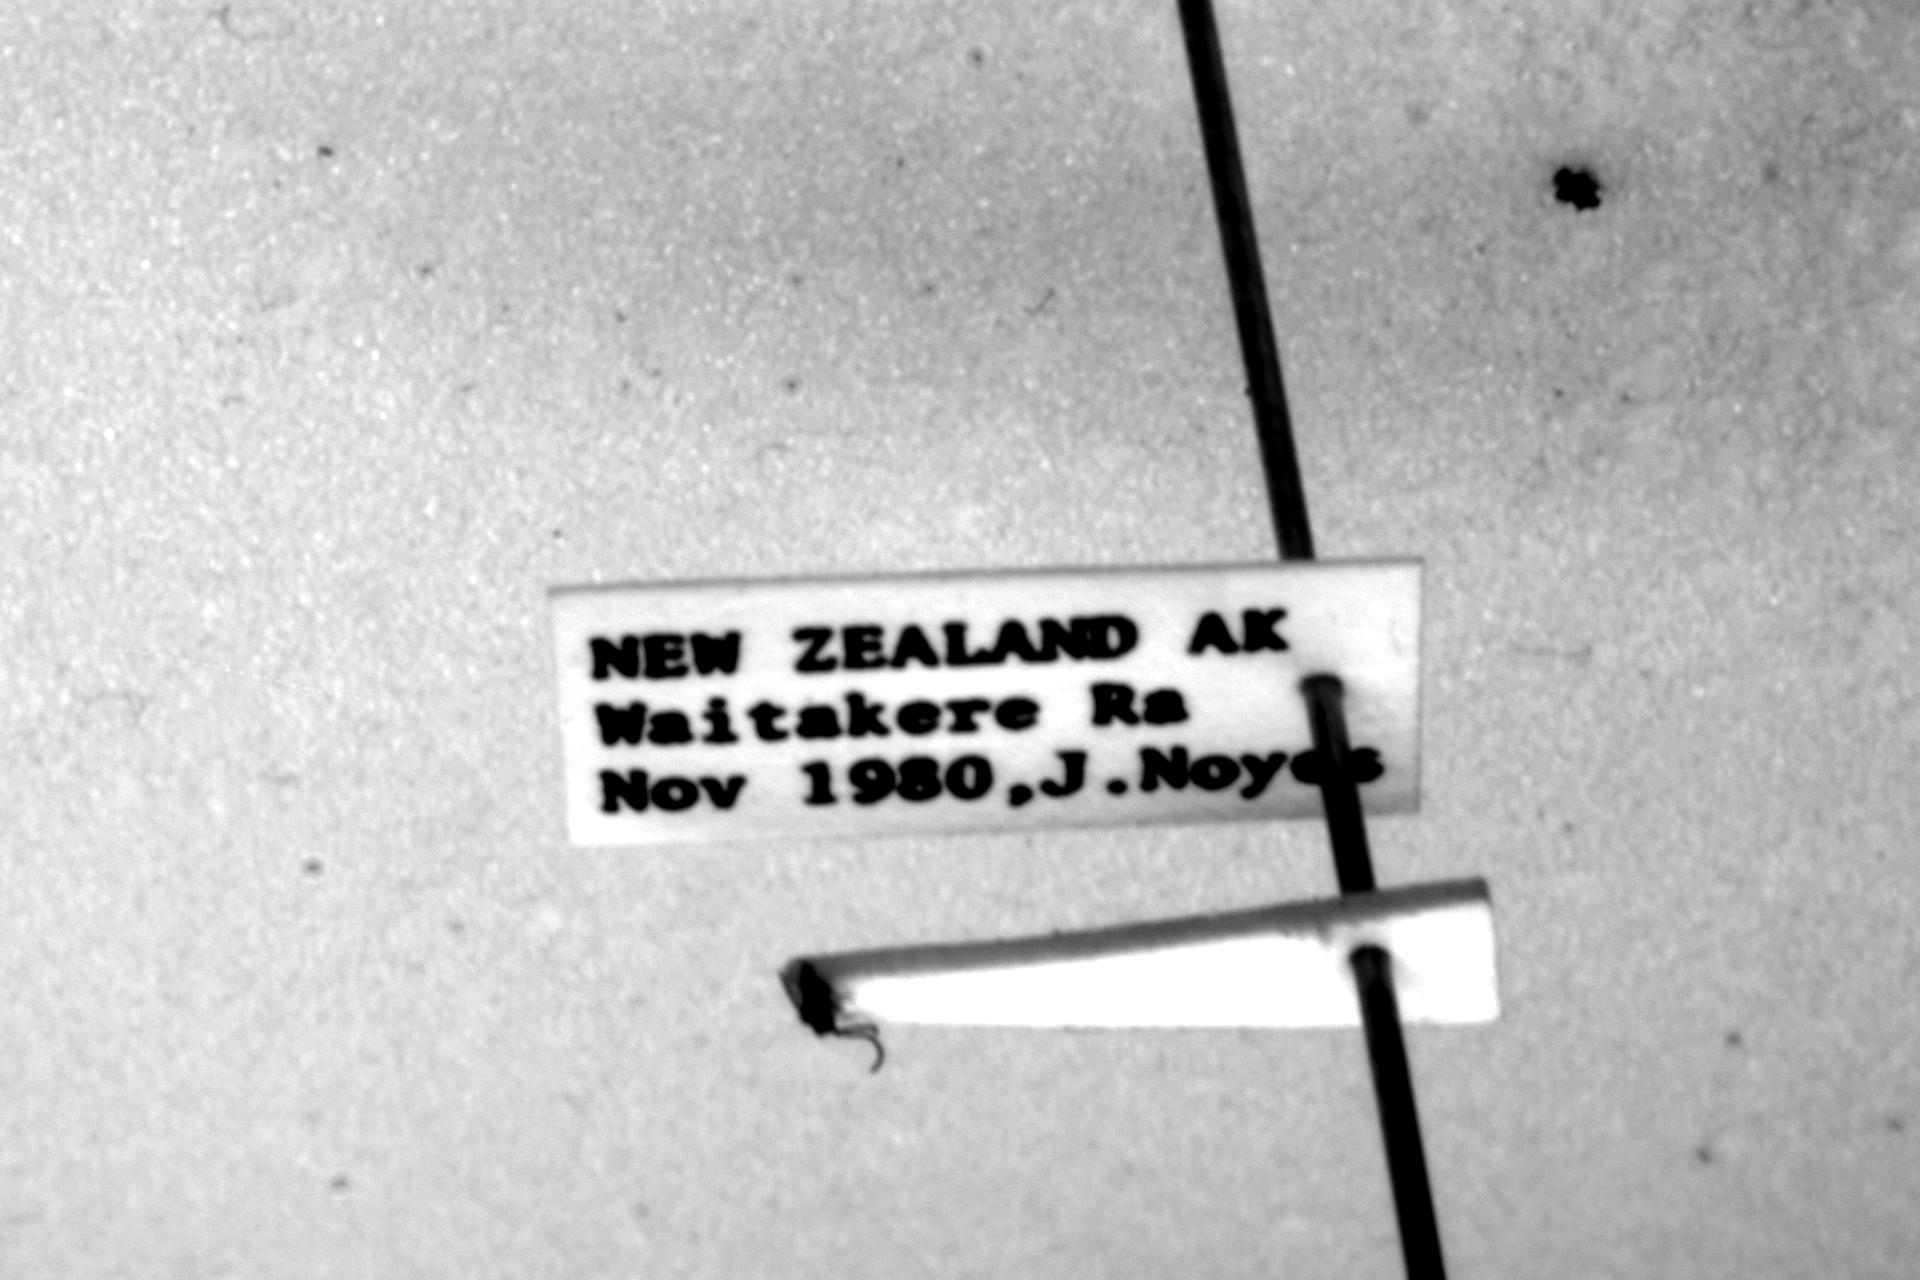typed_label: (551, 563, 1421, 844)
